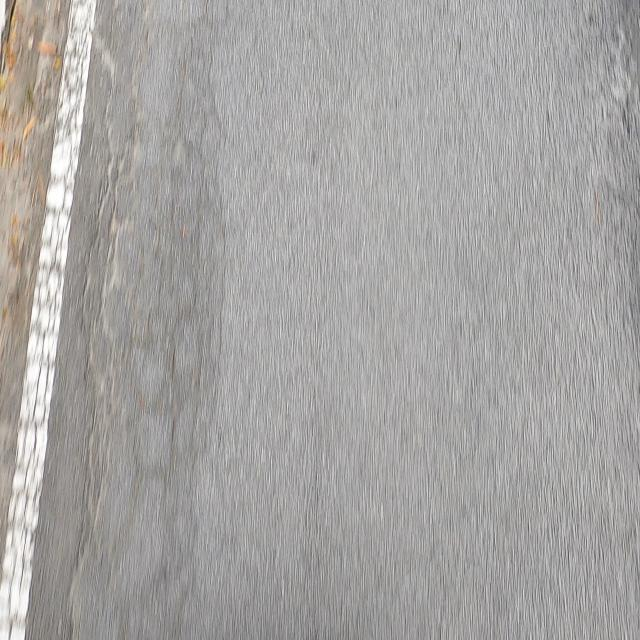Retak-Buaya: (0, 5, 231, 640)
